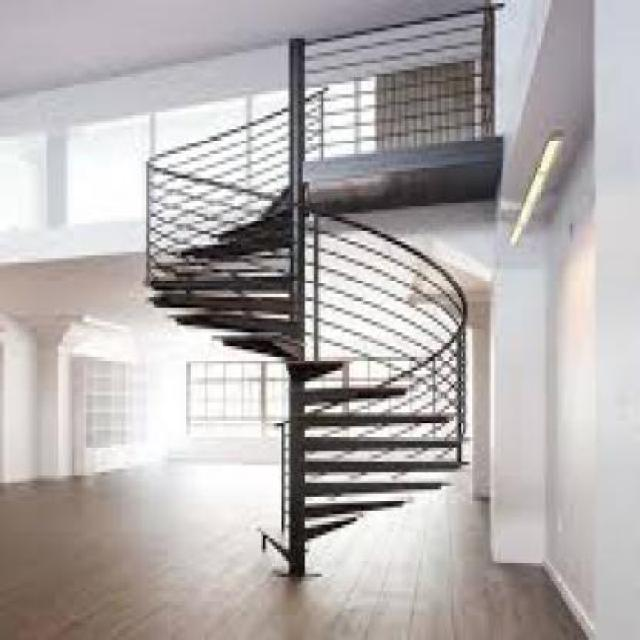stair: (143, 111, 479, 554)
